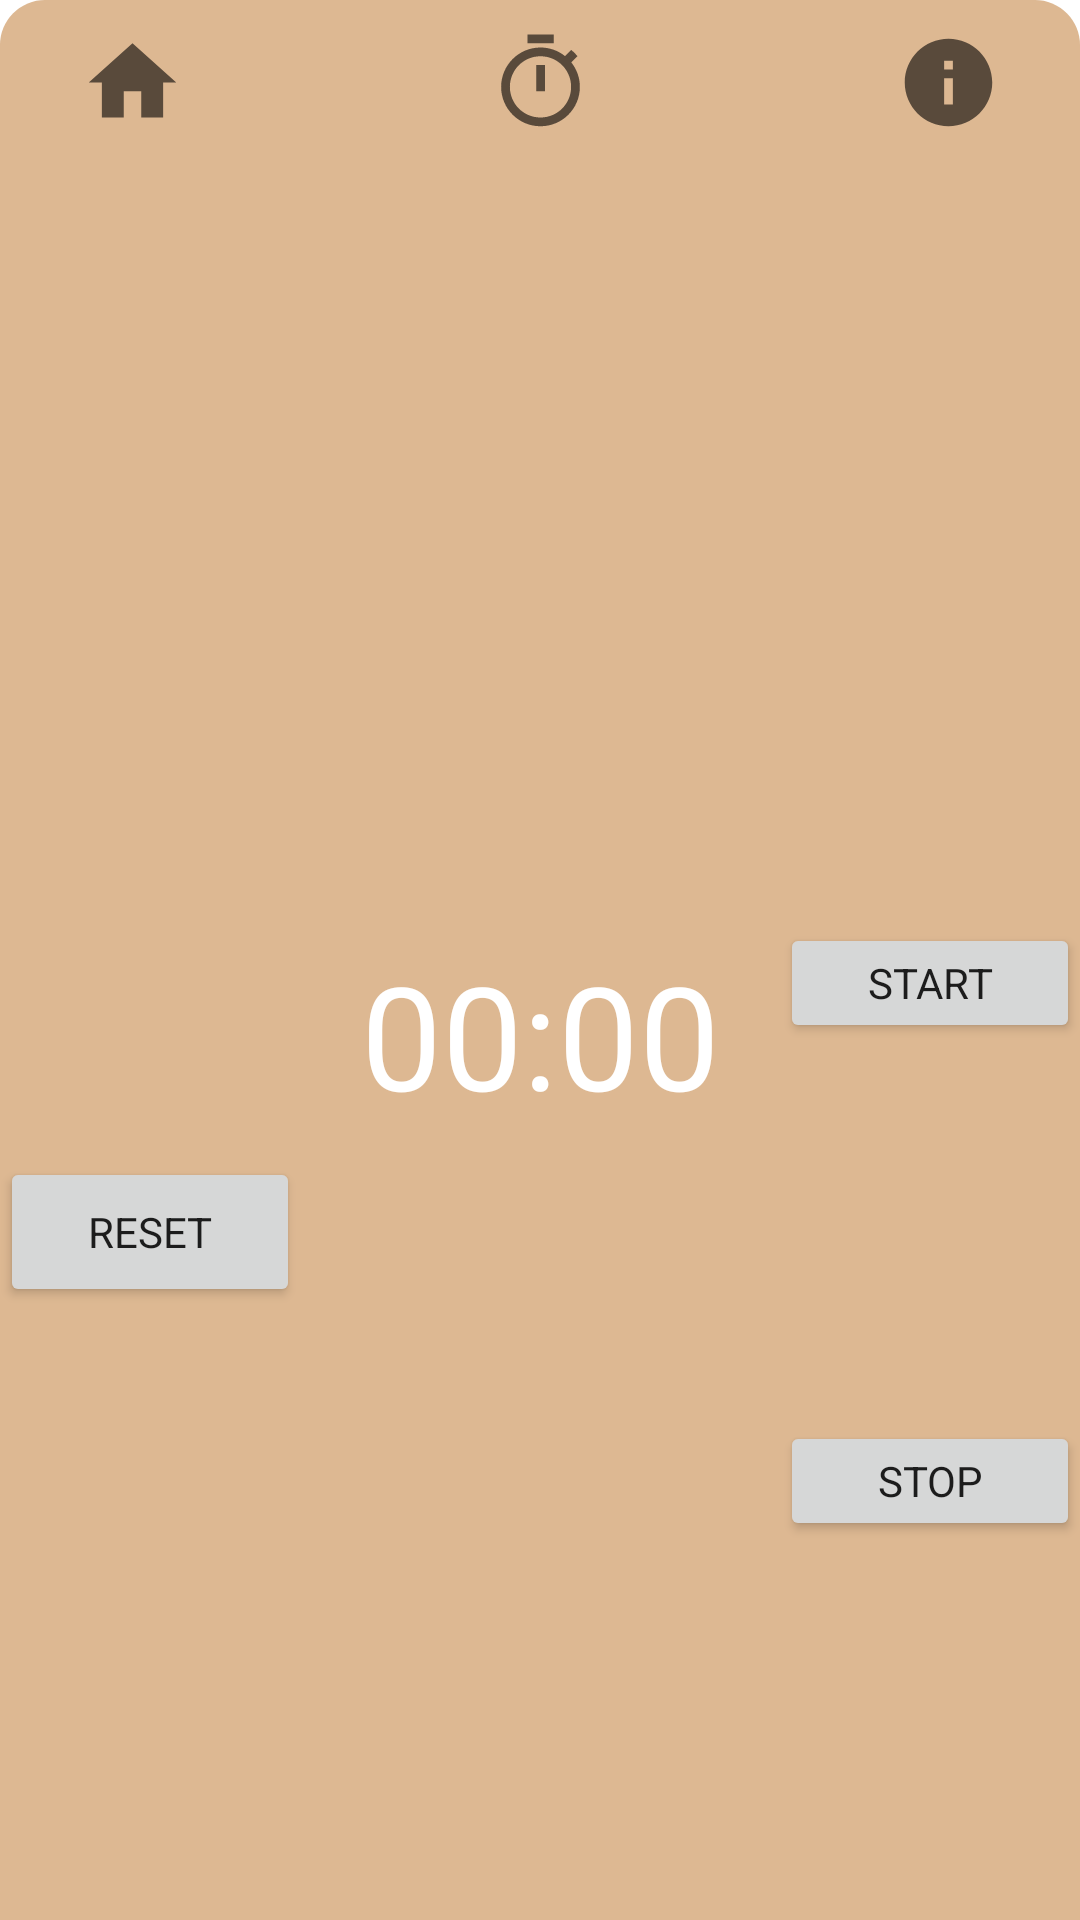

Screen size 1080 x 1920. Icon name, then its box in pixels as rect(x1, y1, x2, y2):
home: rect(89, 43, 176, 118)
info: rect(904, 38, 993, 127)
stopwatch: rect(501, 34, 580, 127)
